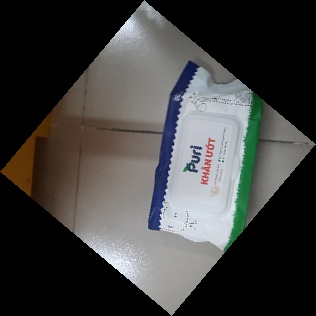Puri Trang: (146, 58, 265, 257)
